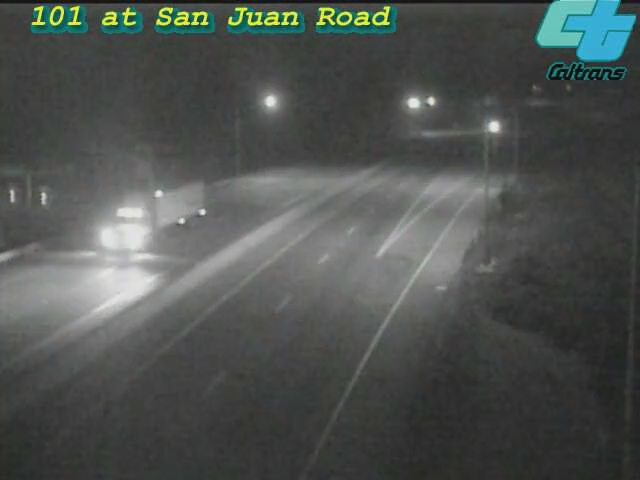vehicle: (116, 178, 196, 258), (469, 102, 519, 152)
